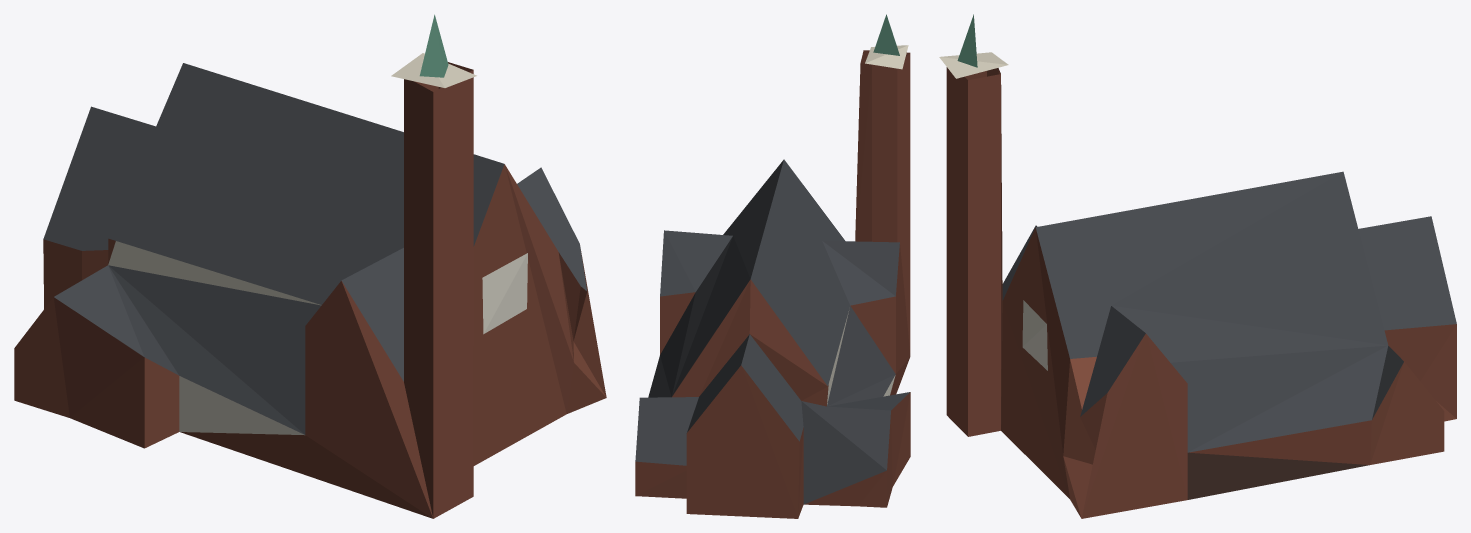
Rendered from willem-de-zwijgerkerk.lod2.glb.
3 renders of one model, left to right at view 1: azimuth 30°, elevation 25°; view 2: azimuth 150°, elevation 25°; view 3: azimuth 270°, elevation 25°, orthographic. The views are drawn at different scales.
Visible parts, largest first — view 1: lod2; view 2: lod2; view 3: lod2.
Boxes of the visible parts, bbox=[...] form: lod2: bbox=[14, 14, 606, 518]; lod2: bbox=[635, 14, 910, 518]; lod2: bbox=[939, 14, 1456, 518].
Bounding box in the file's own units: 33.98 × 35.5 × 40.79.
